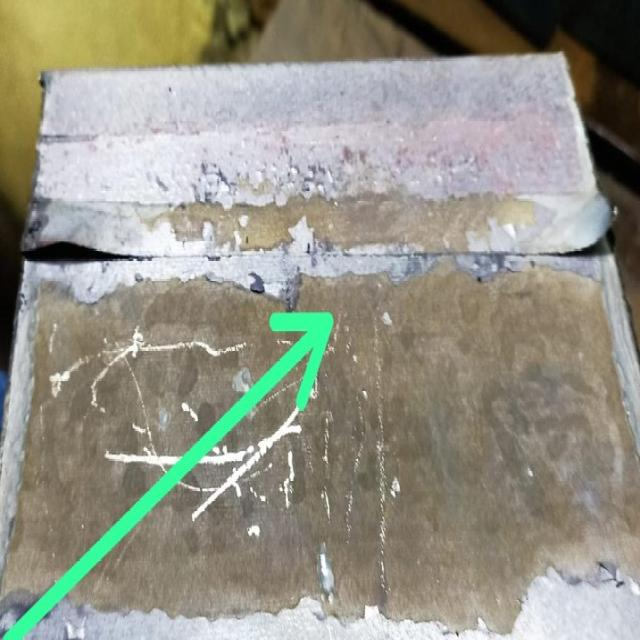defect: (23, 218, 617, 284)
